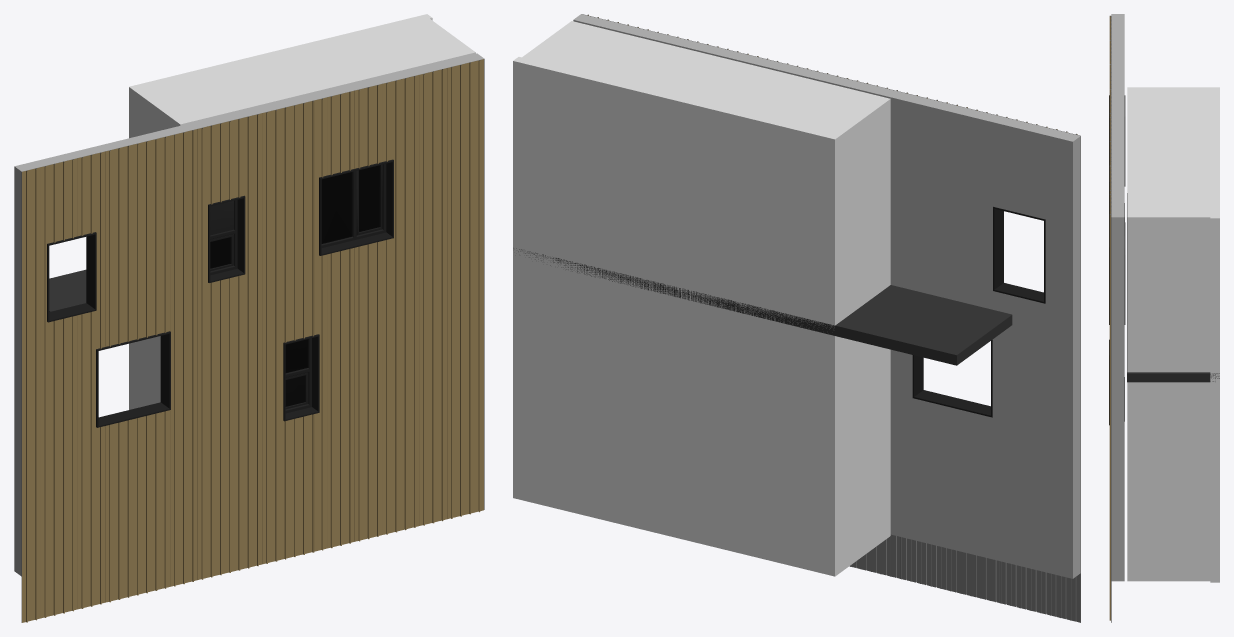
The model's file is MatrixIntercambiador.glb.
3 views of the same model, side by side, from view 1: azimuth 30°, elevation 25°; view 2: azimuth 150°, elevation 25°; view 3: azimuth 270°, elevation 25° (orthographic). The views are drawn at different scales.
Parts seen in each view (by area): view 1: matriz3_k_v_1, Base; view 2: Base; view 3: Base, matriz3_k_v_1.
Part boxes in pixels (<box>): matriz3_k_v_1: <box>22,59,483,622</box>; Base: <box>14,14,484,622</box>; Base: <box>513,14,1080,622</box>; Base: <box>1109,14,1219,622</box>; matriz3_k_v_1: <box>1109,16,1110,620</box>.
Size of the model in its own units: 7.56 by 7 by 1.73.
Materials: 5 (5 with a texture image).
